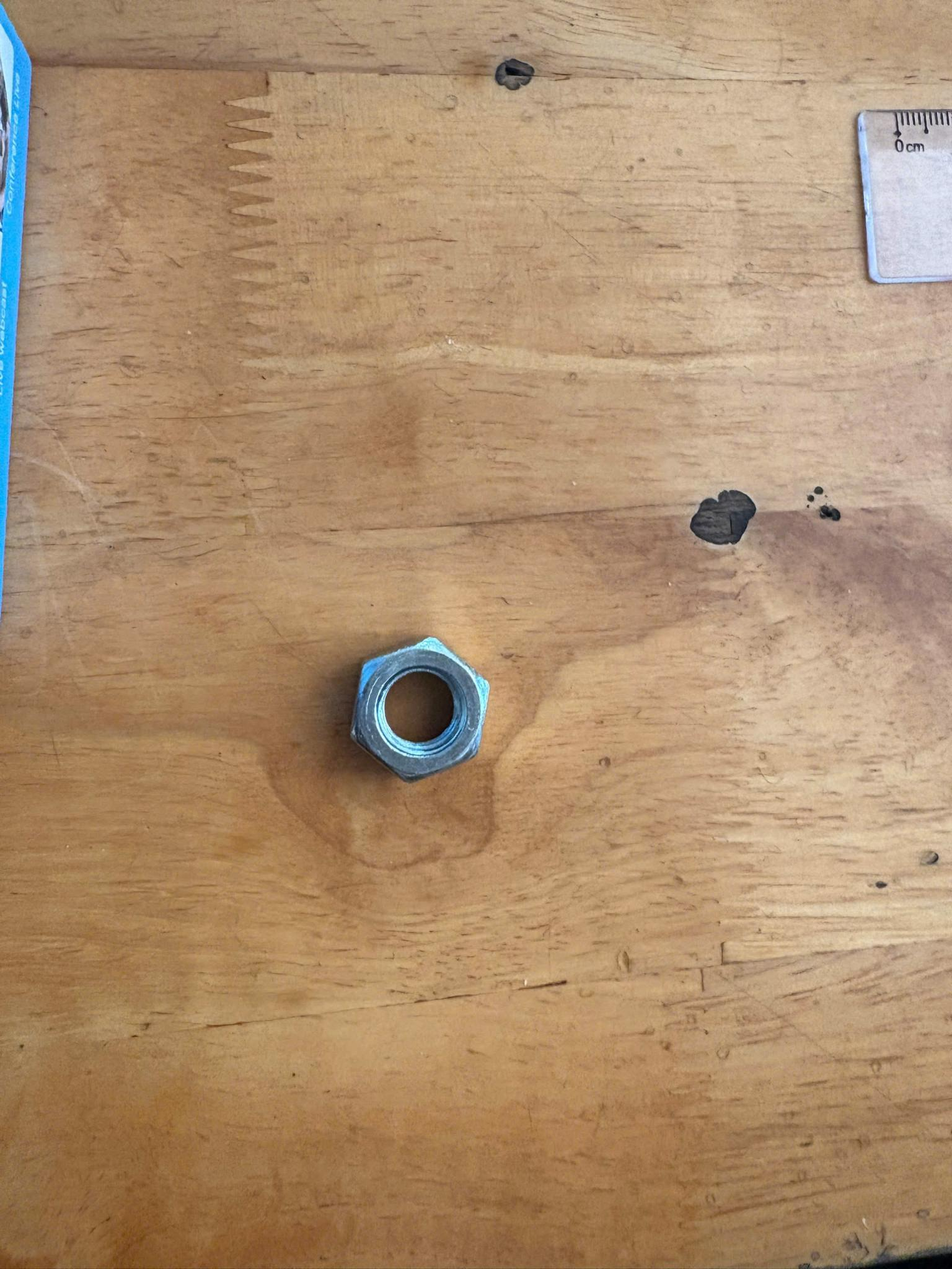nut: (337, 615, 512, 801)
